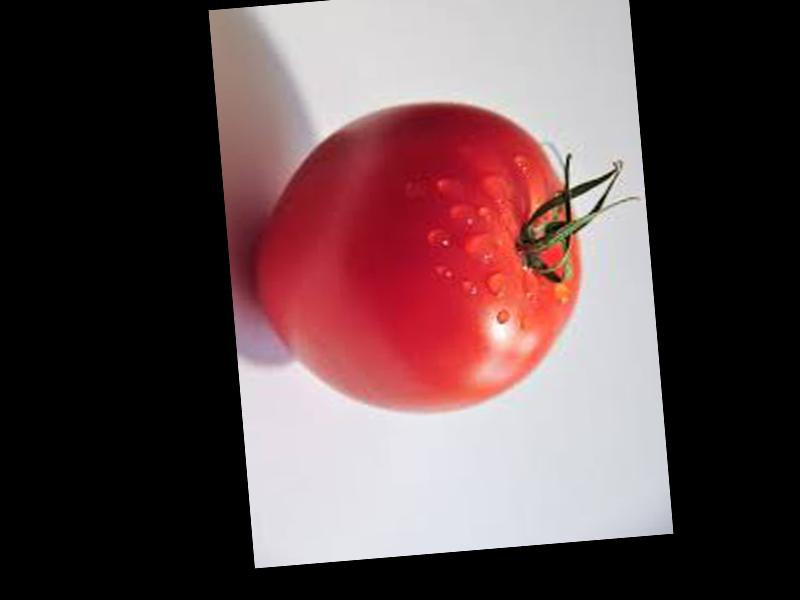Tomato: (242, 93, 588, 427)
